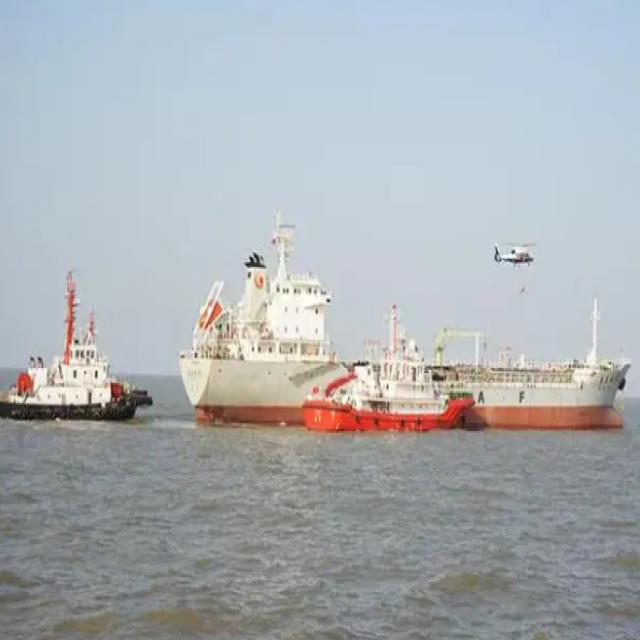navalvessels: (182, 230, 625, 450), (286, 337, 481, 431), (8, 299, 146, 425)
